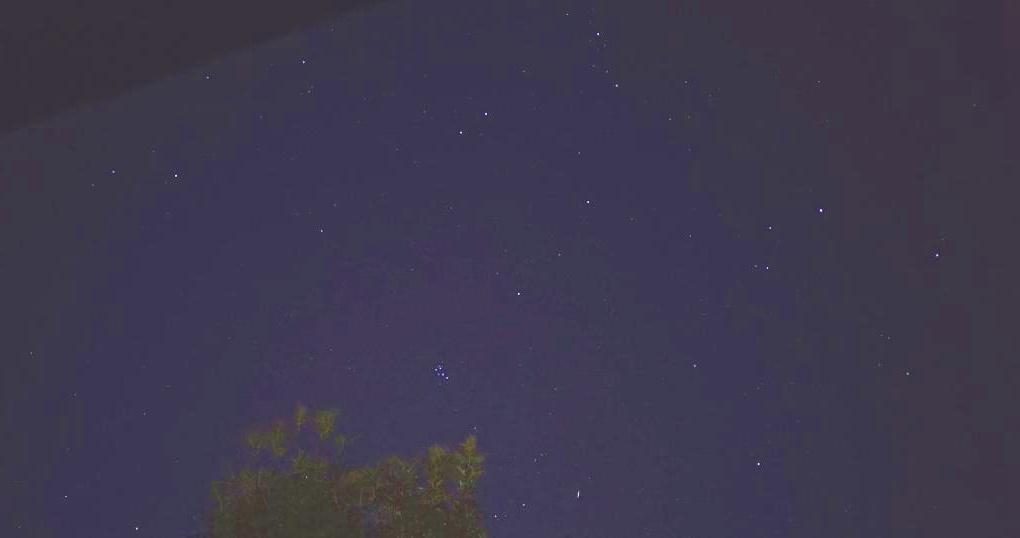meteorite: (564, 485, 592, 502)
